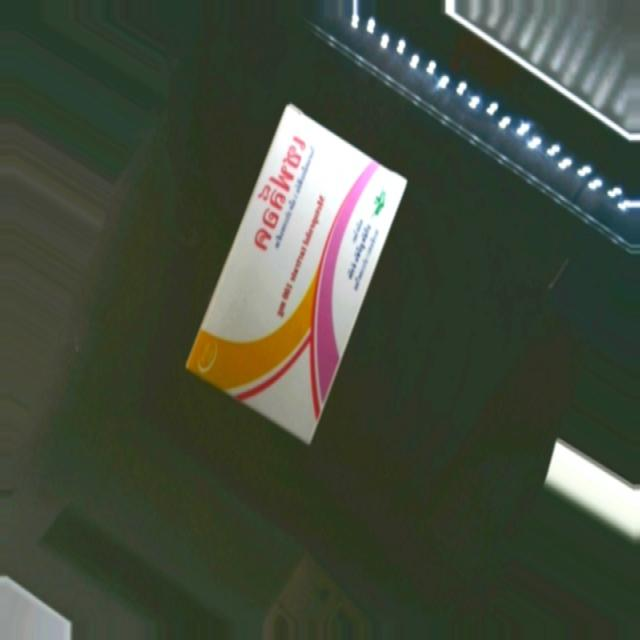sefloc: (185, 107, 407, 443)
